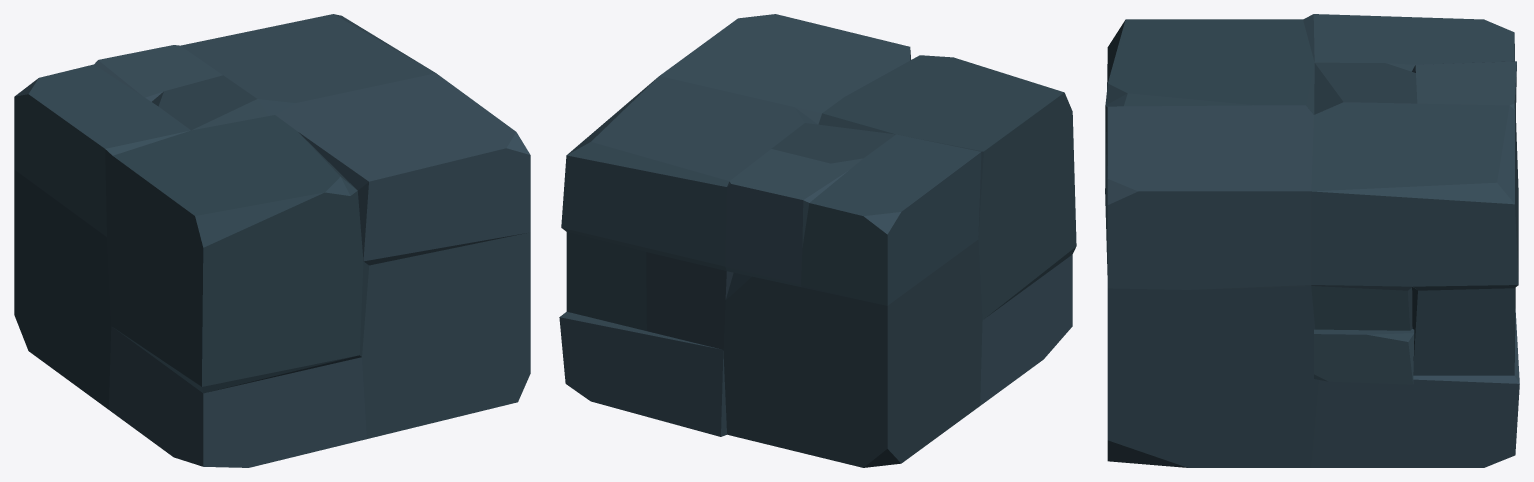
Rendered from level_element_4x4x3.fbx.
3 views of the same model, side by side, from view 1: azimuth 30°, elevation 25°; view 2: azimuth 150°, elevation 25°; view 3: azimuth 270°, elevation 25° (orthographic). The views are drawn at different scales.
Parts seen in each view (by area): view 1: level_element_4x4x3; view 2: level_element_4x4x3; view 3: level_element_4x4x3.
Boxes of the visible parts, x1=… form: level_element_4x4x3: x1=14, y1=14, x2=530, y2=467; level_element_4x4x3: x1=559, y1=14, x2=1076, y2=467; level_element_4x4x3: x1=1105, y1=14, x2=1519, y2=467.
Size of the model in its own units: 417 by 313 by 408.
